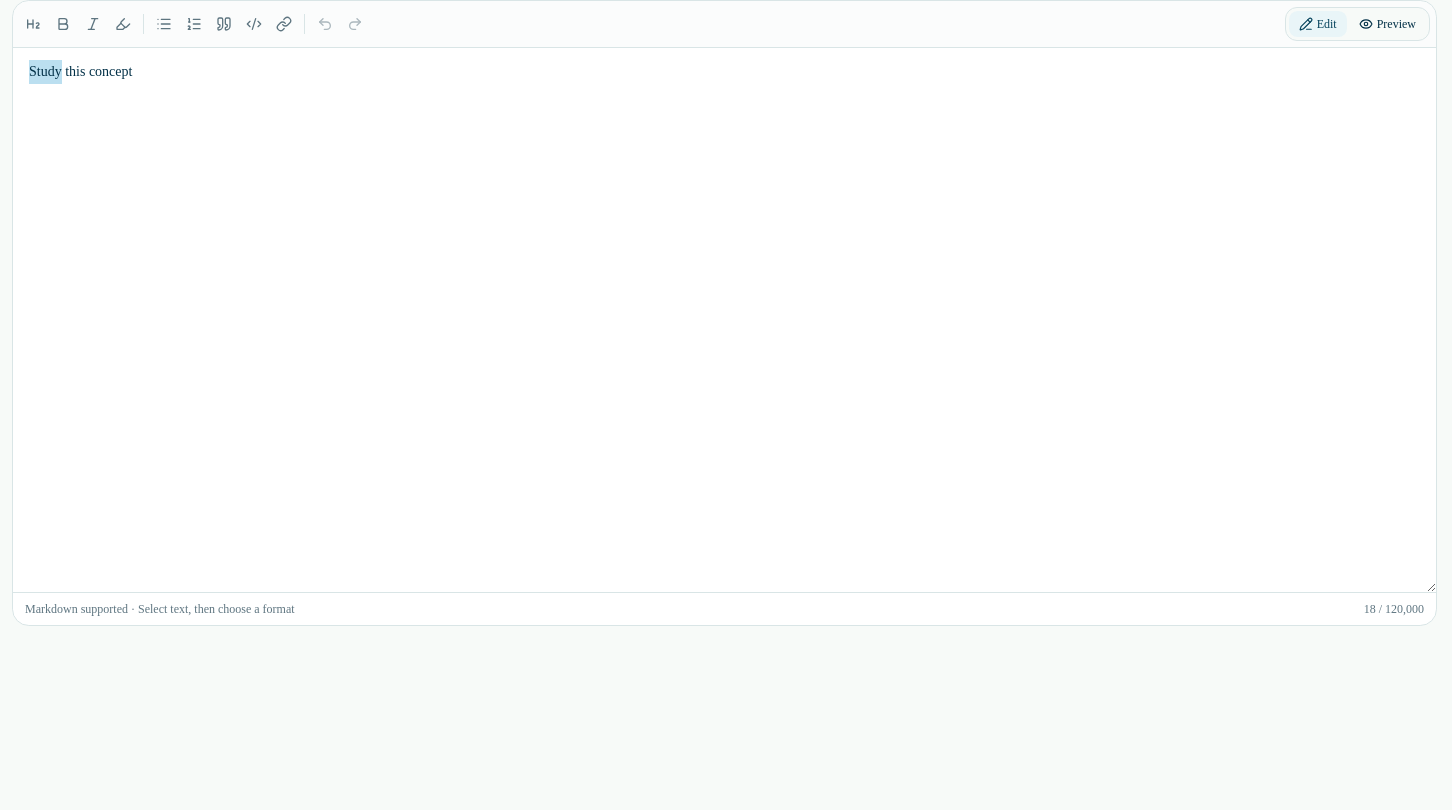
Scenario: MarkdownNoteEditor › formats selected text as bold Markdown and can undo the change
Step 1. Click the button named "Bold (⌘B)" → (63, 24), box [49,10,77,38]
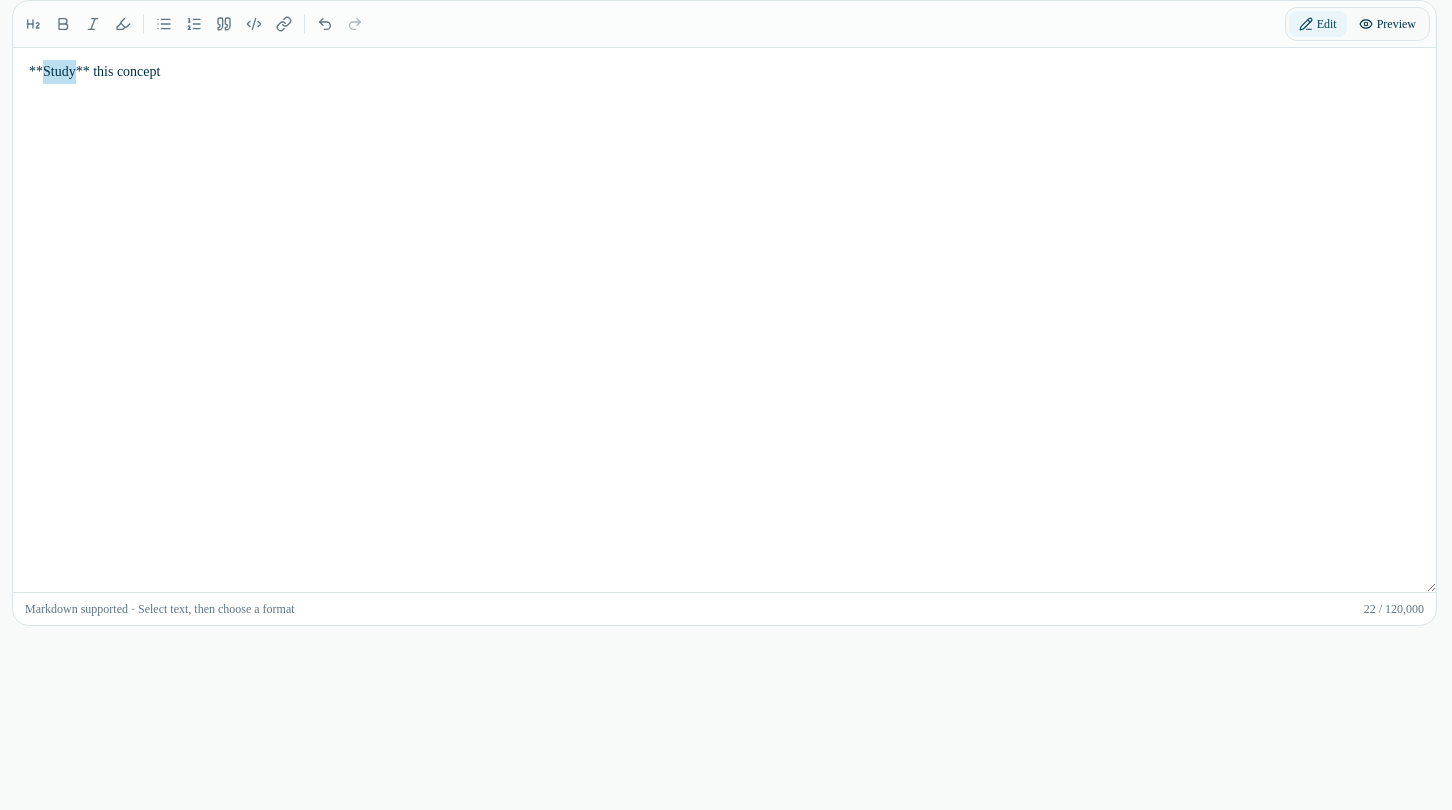
Check: the text box named "Markdown note editor" holds "**Study** this concept"
Step 2. Click the button named "Undo" → (325, 24), box [311,10,339,38]
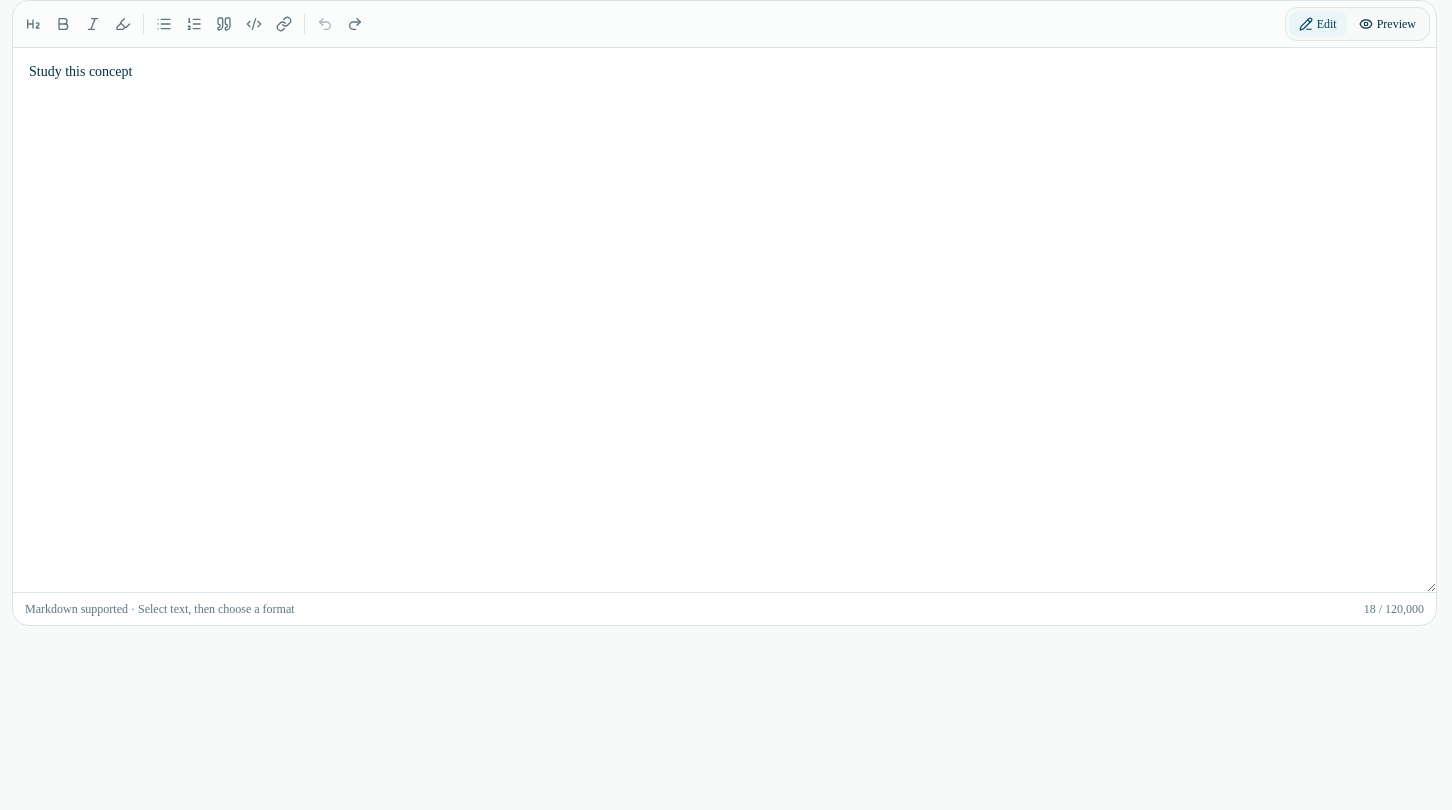
Check: the text box named "Markdown note editor" holds "Study this concept"
